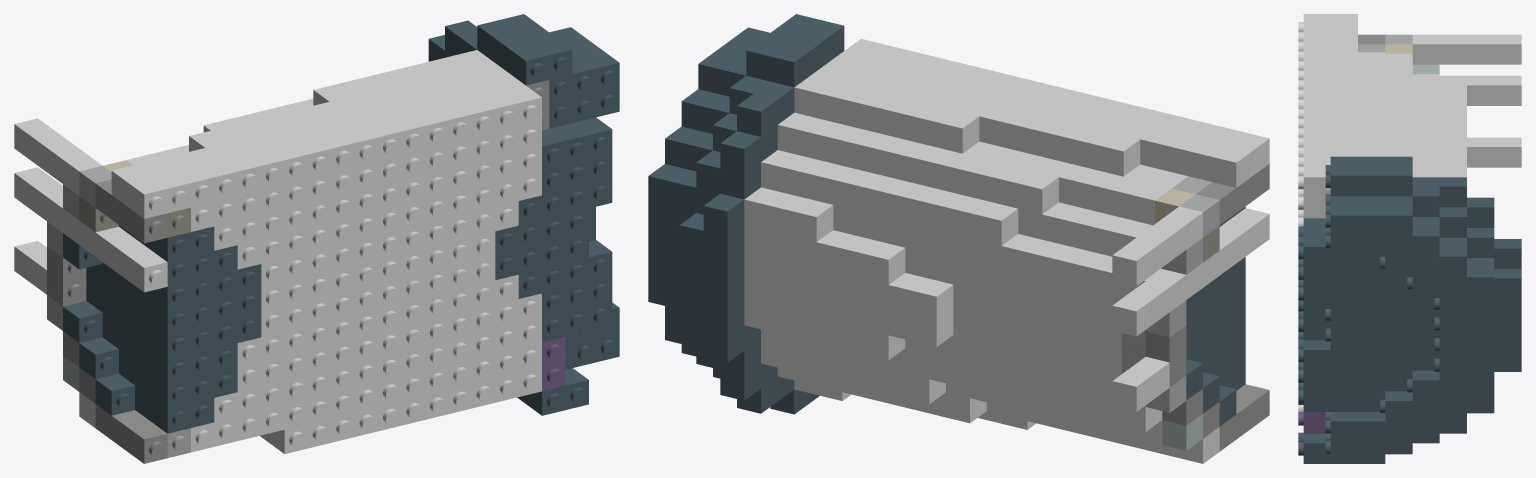
Rendered from full.glb.
The picture shows the model from 3 angles, left to right: view 1: azimuth 30°, elevation 25°; view 2: azimuth 150°, elevation 25°; view 3: azimuth 270°, elevation 25°; orthographic projection. The views are drawn at different scales.
Visible parts, largest first — view 1: world; view 2: world; view 3: world.
Part boxes in pixels (x1,y1,x2,y2): world: [14, 14, 619, 463]; world: [648, 14, 1269, 463]; world: [1298, 14, 1521, 463].
Bounding box in the file's own units: 168 × 112 × 78.6.
